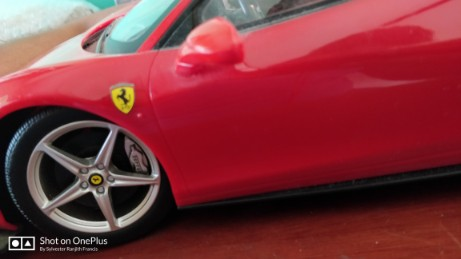unaligned_wheel: (1, 105, 205, 242)
